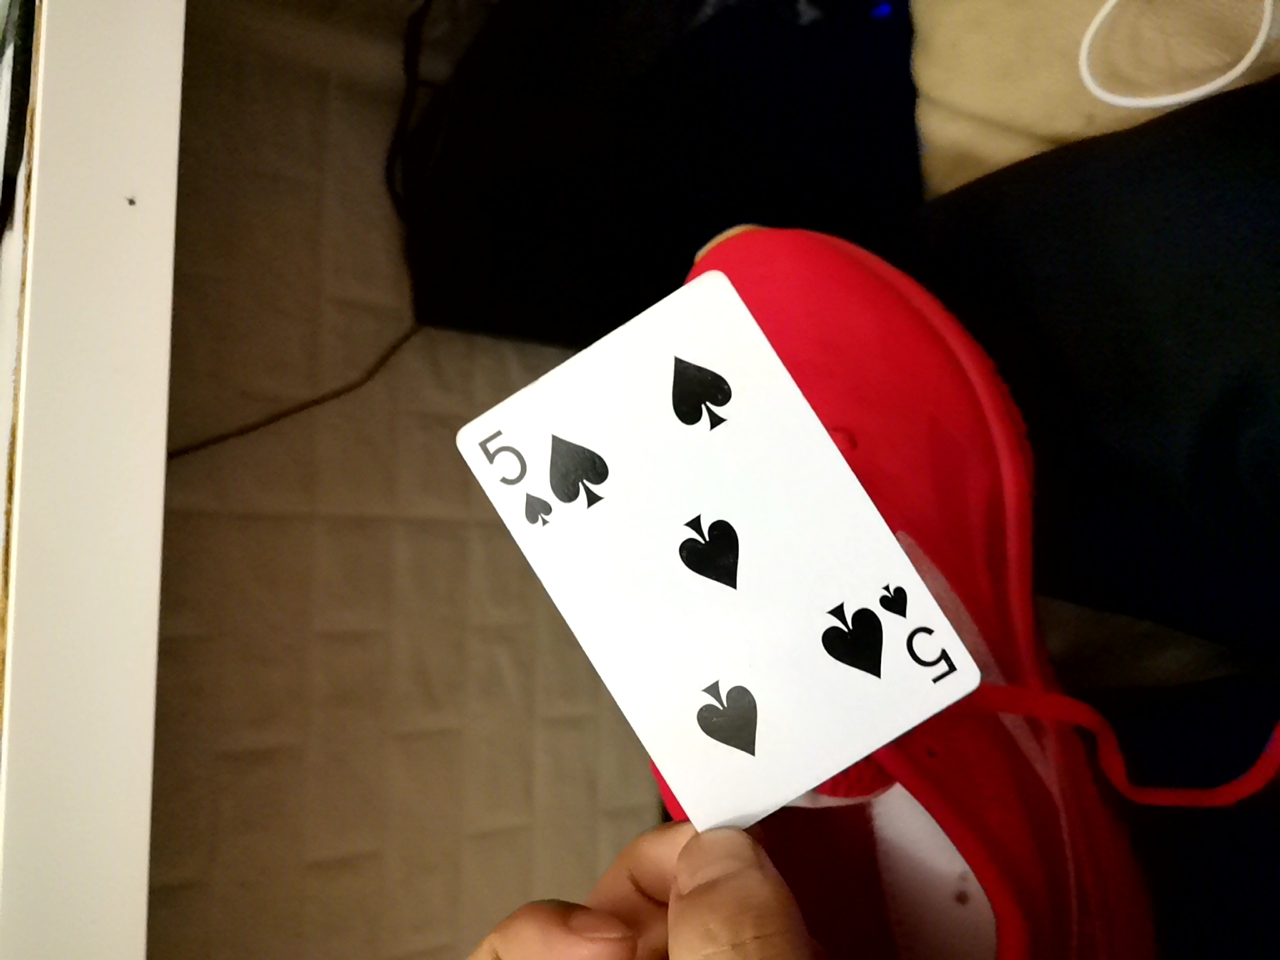ht 5: (427, 260, 953, 868)
